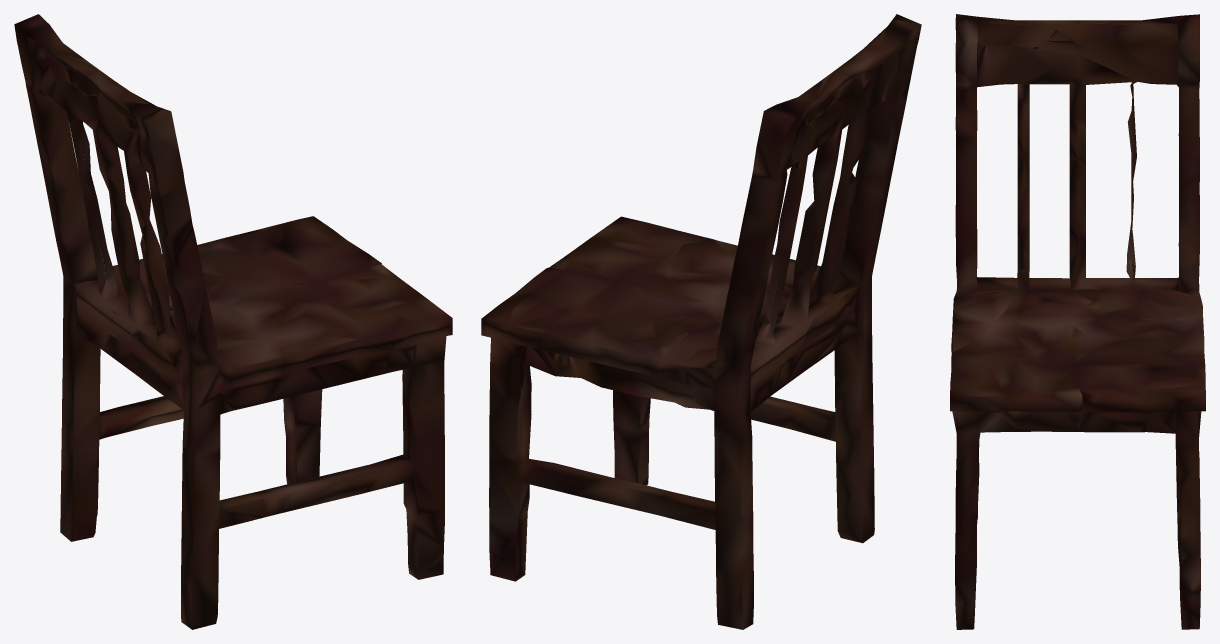
The model's file is silla.glb.
The picture shows the model from 3 angles, left to right: view 1: azimuth 30°, elevation 25°; view 2: azimuth 150°, elevation 25°; view 3: azimuth 270°, elevation 25°; orthographic projection. The views are drawn at different scales.
Visible parts, largest first — view 1: tripo_node_822fdd3b-1d58-4e97-aa2a-c1c60ffc4b0d; view 2: tripo_node_822fdd3b-1d58-4e97-aa2a-c1c60ffc4b0d; view 3: tripo_node_822fdd3b-1d58-4e97-aa2a-c1c60ffc4b0d.
Part boxes in pixels (x1=…): tripo_node_822fdd3b-1d58-4e97-aa2a-c1c60ffc4b0d: x1=14, y1=14, x2=452, y2=629; tripo_node_822fdd3b-1d58-4e97-aa2a-c1c60ffc4b0d: x1=481, y1=14, x2=921, y2=629; tripo_node_822fdd3b-1d58-4e97-aa2a-c1c60ffc4b0d: x1=950, y1=14, x2=1205, y2=629.
Bounding box in the file's own units: 0.6004 × 0.9977 × 0.4746.
